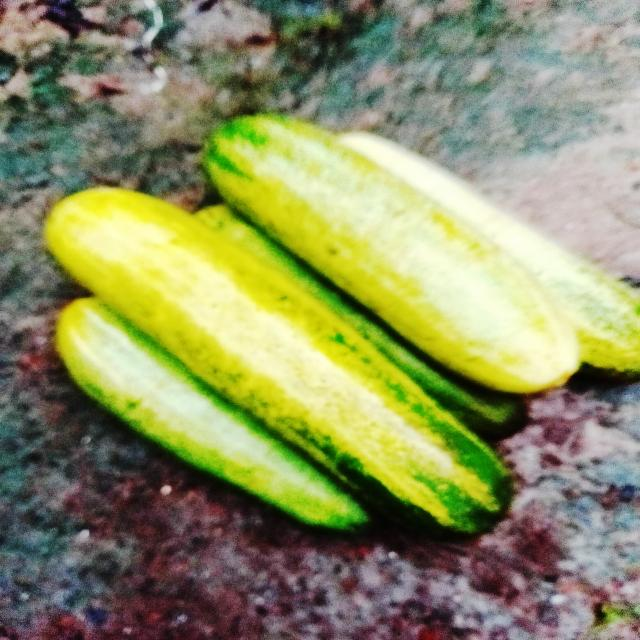Fresh-Cucumber: (47, 106, 640, 532)
